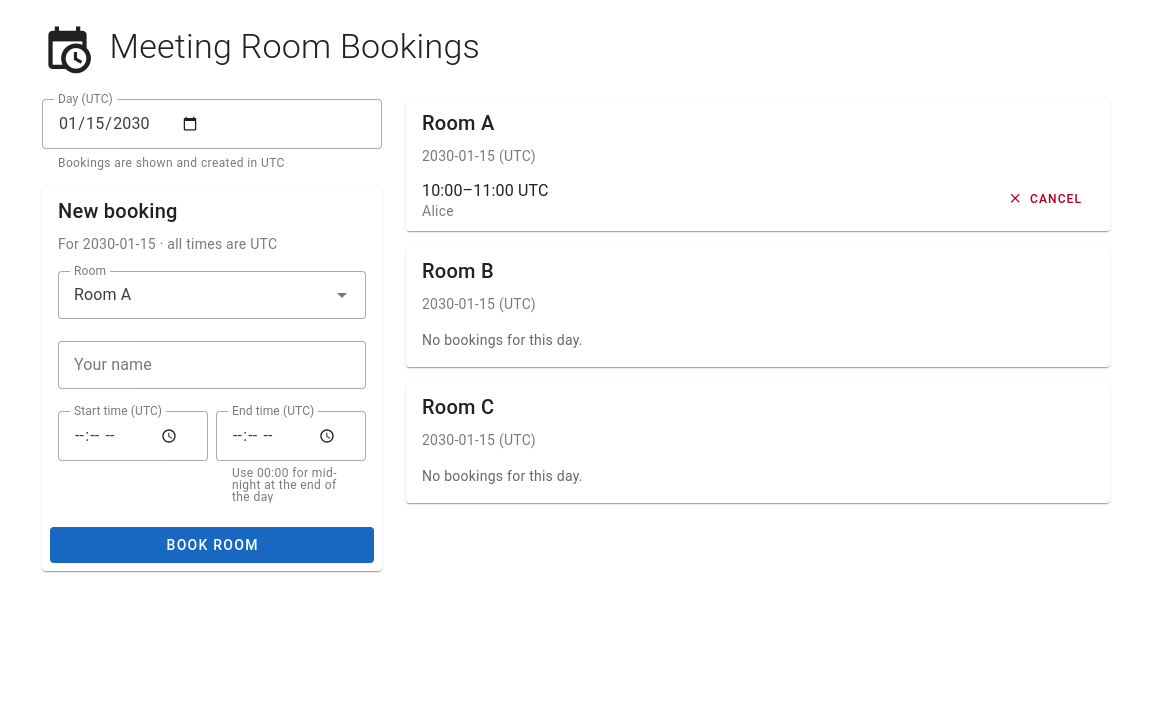
Test: RoomBookings › cancels a booking and refreshes the list
The image size is (1152, 720).
Click the button "Cancel" at (1046, 199), box top-left (998, 185), bottom-right (1094, 213)
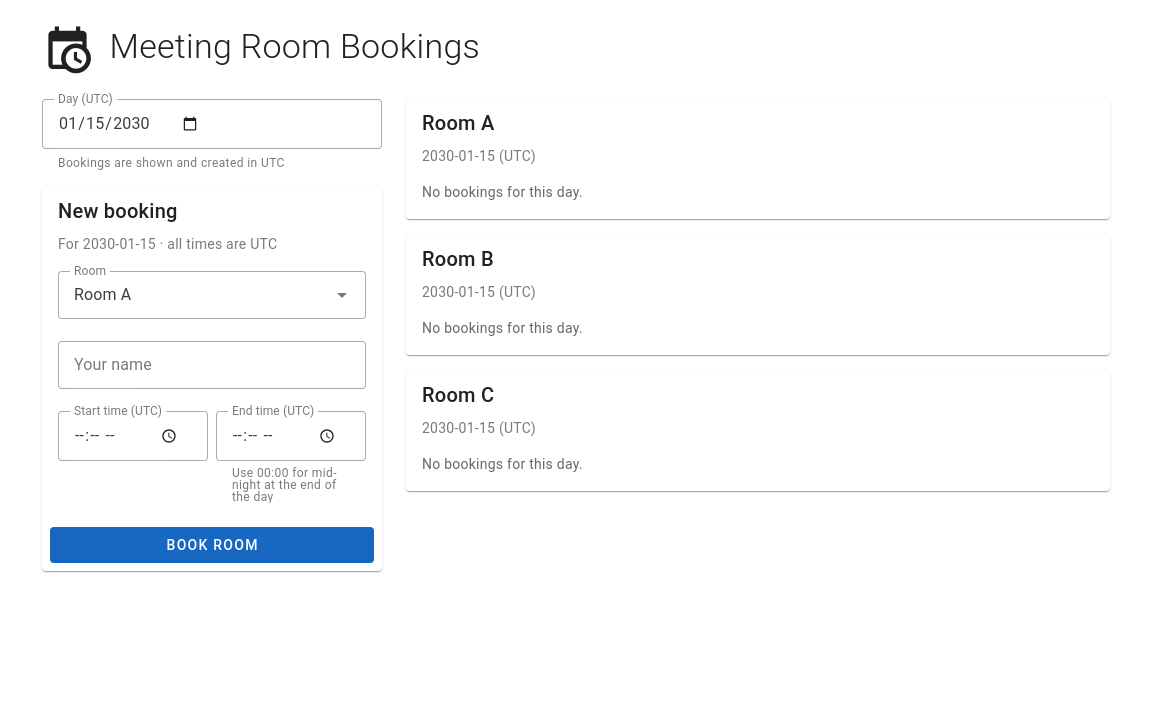
Result: the element showing "Room A 2030-01-15 (UTC) No bookings for this day." is shown at top-left (406, 99), bottom-right (1110, 219)
